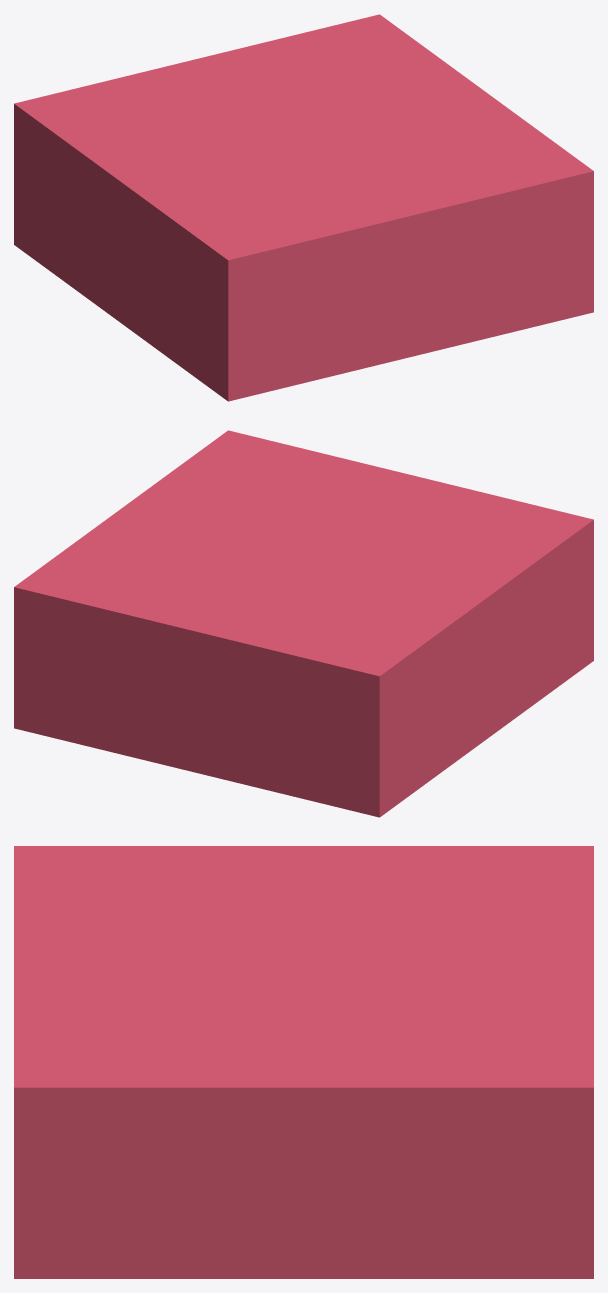
File: SM_Garage 1.fbx
The picture shows the model from 3 angles, top to bottom: view 1: azimuth 30°, elevation 25°; view 2: azimuth 150°, elevation 25°; view 3: azimuth 270°, elevation 25°; orthographic projection. The views are drawn at different scales.
Visible parts, largest first — view 1: SM_Roof, SM_Wall, SM_Wall.003; view 2: SM_Roof, SM_Wall.002, SM_Wall.003; view 3: SM_Roof, SM_Wall.001.
Part boxes in pixels (bbox=[...]): SM_Roof: bbox=[14, 14, 593, 260]; SM_Wall: bbox=[228, 171, 593, 401]; SM_Wall.003: bbox=[14, 104, 228, 401]; SM_Roof: bbox=[14, 430, 593, 676]; SM_Wall.002: bbox=[14, 587, 379, 817]; SM_Wall.003: bbox=[379, 520, 593, 817]; SM_Roof: bbox=[14, 846, 593, 1087]; SM_Wall.001: bbox=[14, 1087, 593, 1278].
Size of the model in its own units: 1084 by 400 by 1100.
